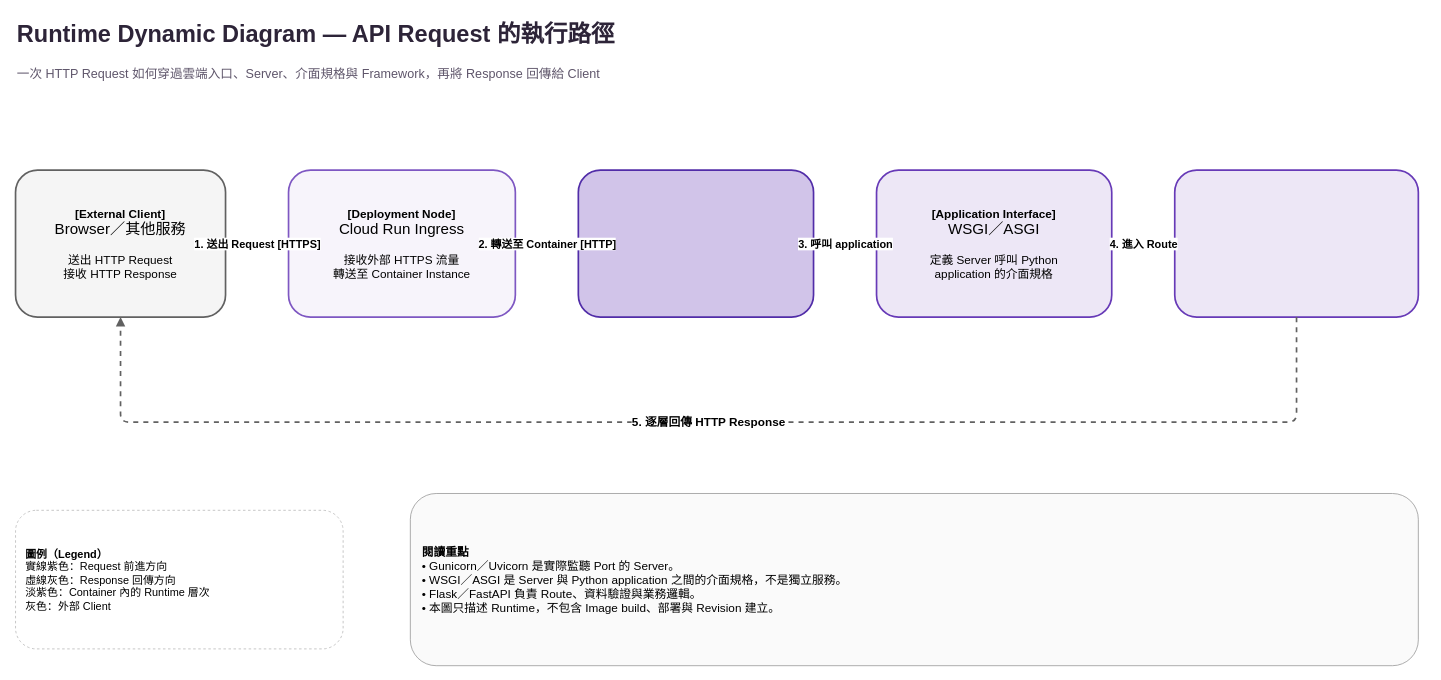
This 1441x680 diagram has some shape labels left out. Here are the shapes that lost their labels. From the top down, the box of each, then its label:
(577, 169, 814, 318): [Application Server] Gunicorn／Uvicorn 監聽 Container 的 PORT 管理 worker 或 event loop
(1173, 169, 1419, 318): [Web Framework] Flask／FastAPI 比對 Route、驗證資料 執行業務邏輯並建立 Response
